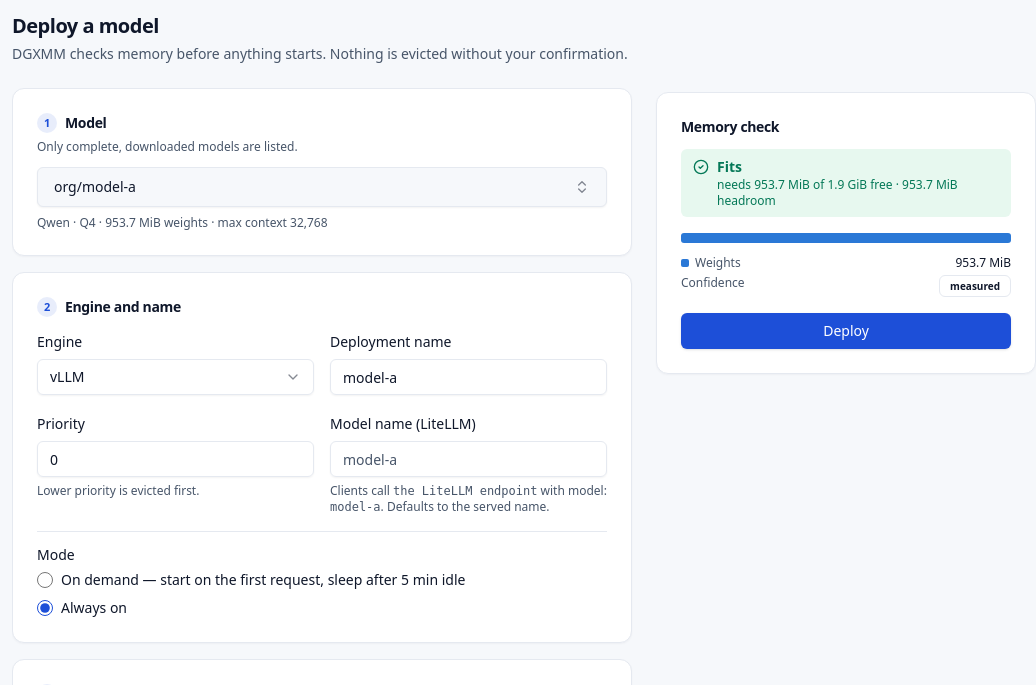
Scenario: DeployWizard › links to the deployment that already uses the model name
The width and height of the screenshot is (1036, 685).
Expected: the text "Fits" is shown, top-left (717, 157), bottom-right (742, 176)
Click the button "Deploy" at (846, 331), box top-left (681, 313), bottom-right (1011, 349)
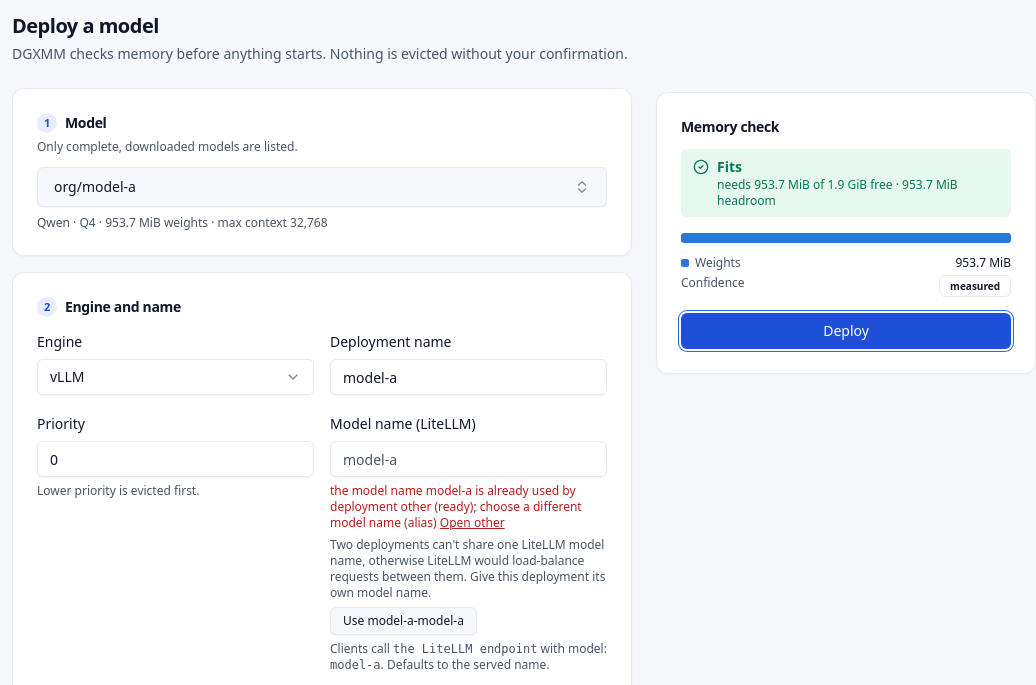
Now the text "load-balance" is shown once, box top-left (330, 537), bottom-right (607, 601)
Click the button "Use model-a-model-a" at (403, 621), box top-left (330, 607), bottom-right (477, 635)
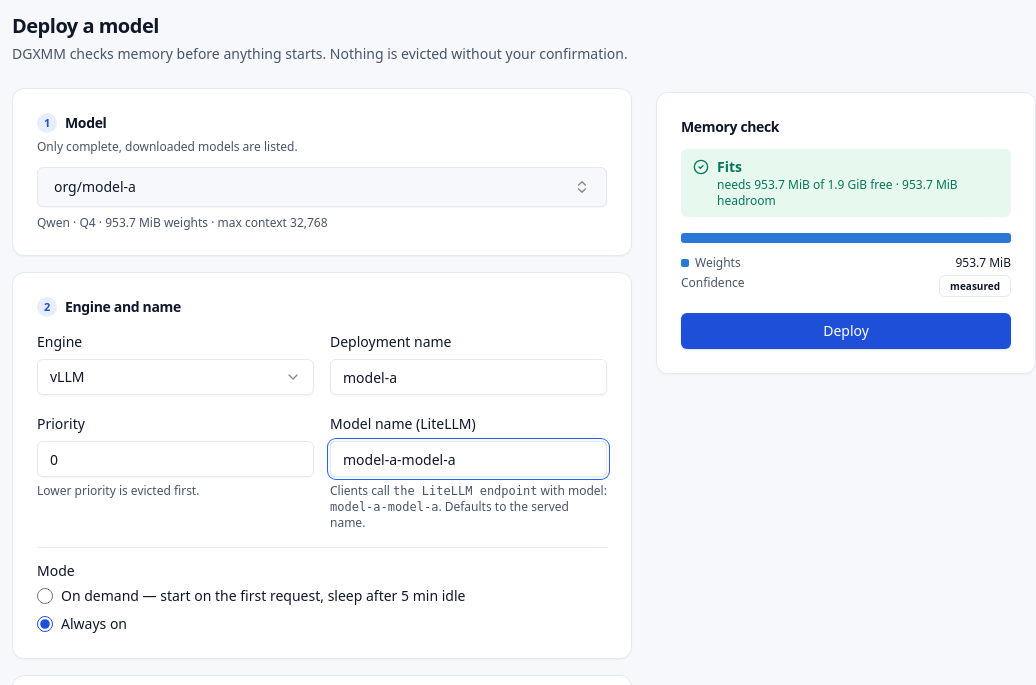
Now the field labelled "Model name (LiteLLM)" holds "model-a-model-a", box top-left (330, 441), bottom-right (607, 477)
